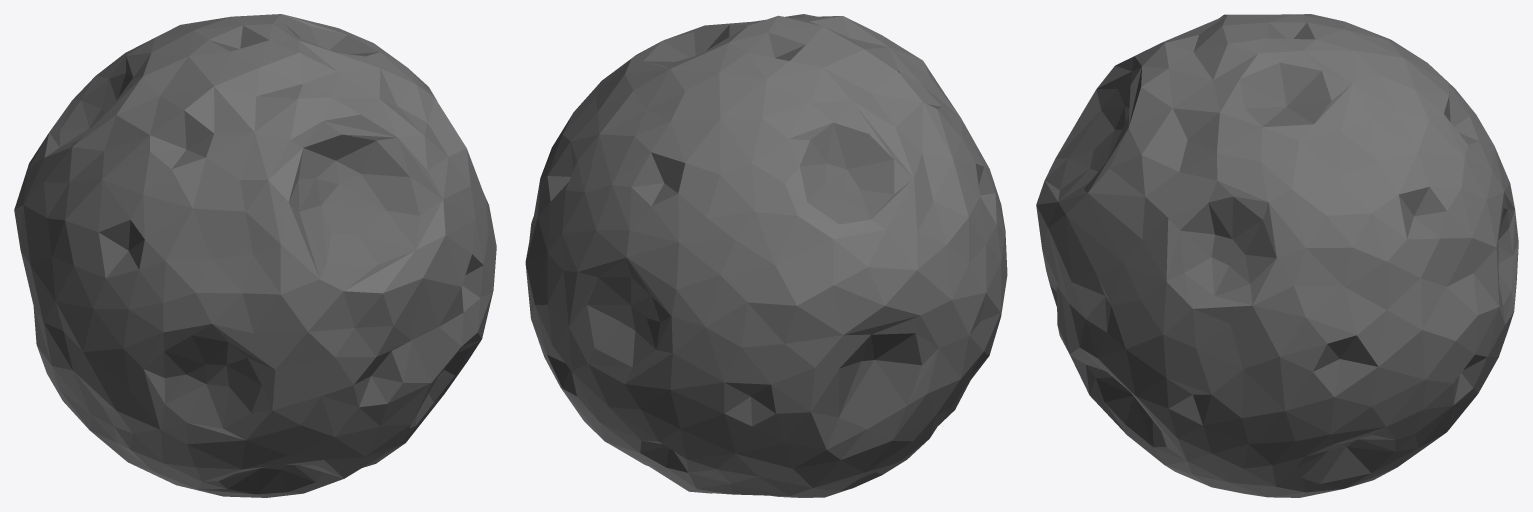
The model's file is Moon.glb.
3 renders of one model, left to right at view 1: azimuth 30°, elevation 25°; view 2: azimuth 150°, elevation 25°; view 3: azimuth 270°, elevation 25°, orthographic.
Visible parts, largest first — view 1: Moon; view 2: Moon; view 3: Moon.
Boxes of the visible parts, x1=… form: Moon: x1=14, y1=14, x2=496, y2=497; Moon: x1=525, y1=14, x2=1007, y2=497; Moon: x1=1036, y1=14, x2=1518, y2=497.
Bounding box in the file's own units: 100 × 100 × 100.
1 material, 1 textured.
